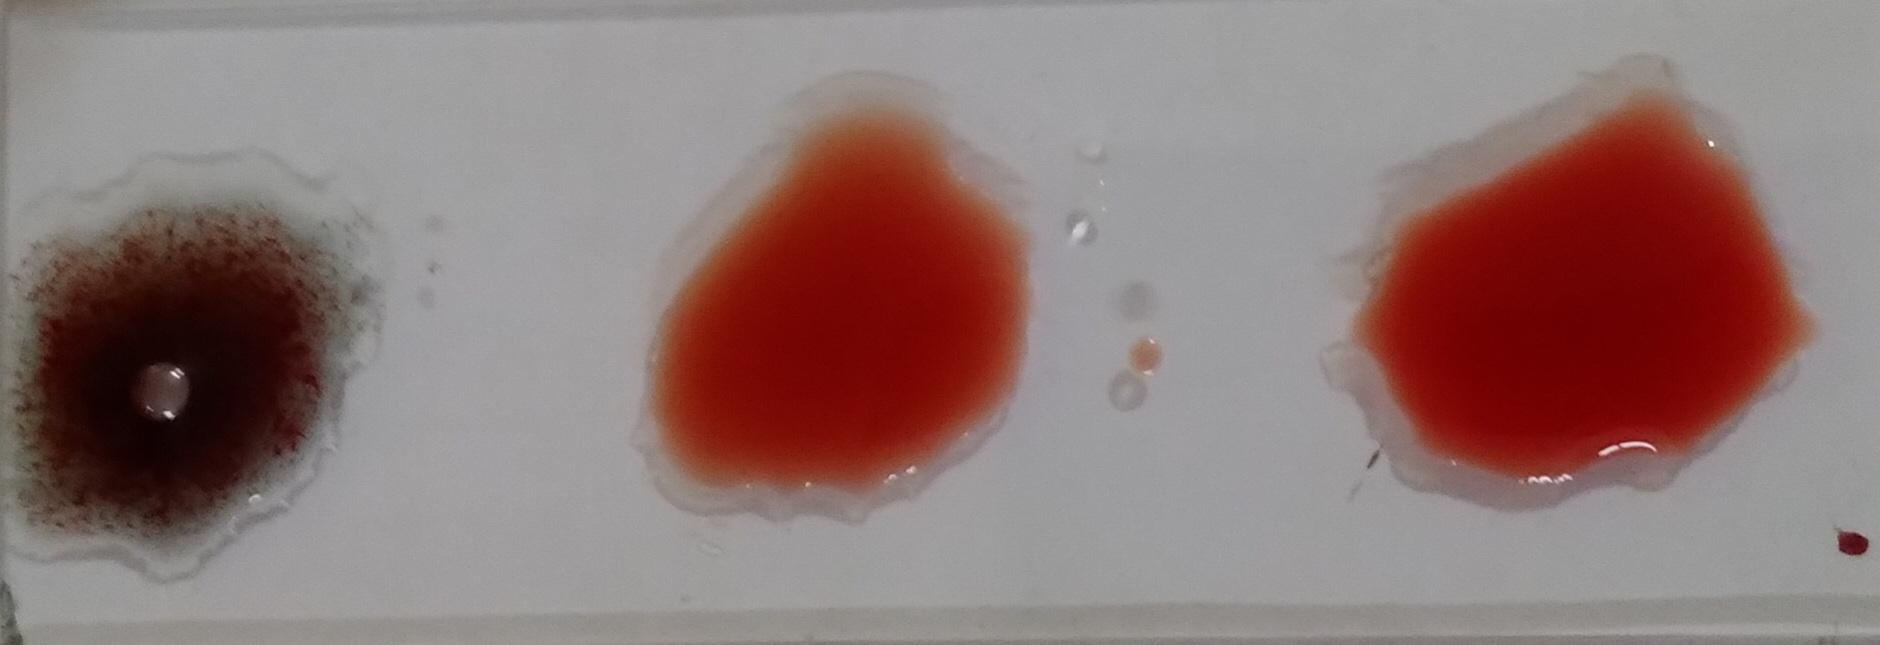A: (0, 168, 361, 586)
